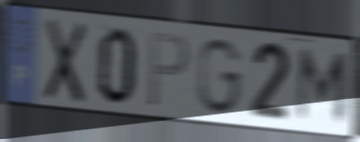0: (96, 25, 139, 107)
2: (249, 39, 295, 126)
G: (196, 36, 245, 117)
M: (294, 46, 353, 125)
P: (146, 30, 192, 111)
X: (42, 15, 89, 107)
